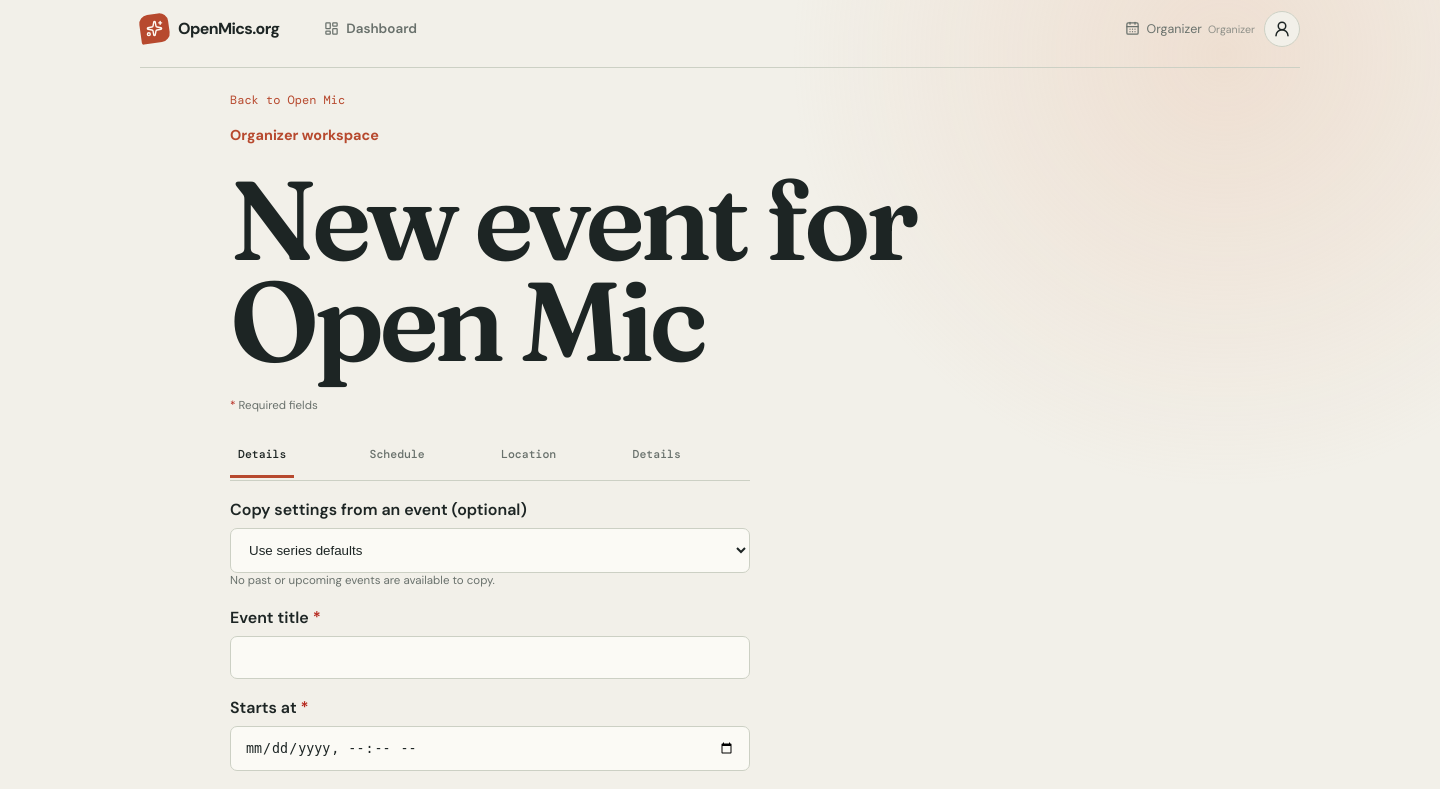
Test: event copy creation › defaults to a three-hour duration and keeps the current duration when start changes
This screenshot has width=1440, height=789.
expect the text "No past or upcoming events are available to copy." is shown: met, box [230, 572, 495, 588]
Type "2026-10-10T18:00" into the field labelled "Starts at *" at (490, 748), box [230, 726, 750, 771]
(page scrolled)
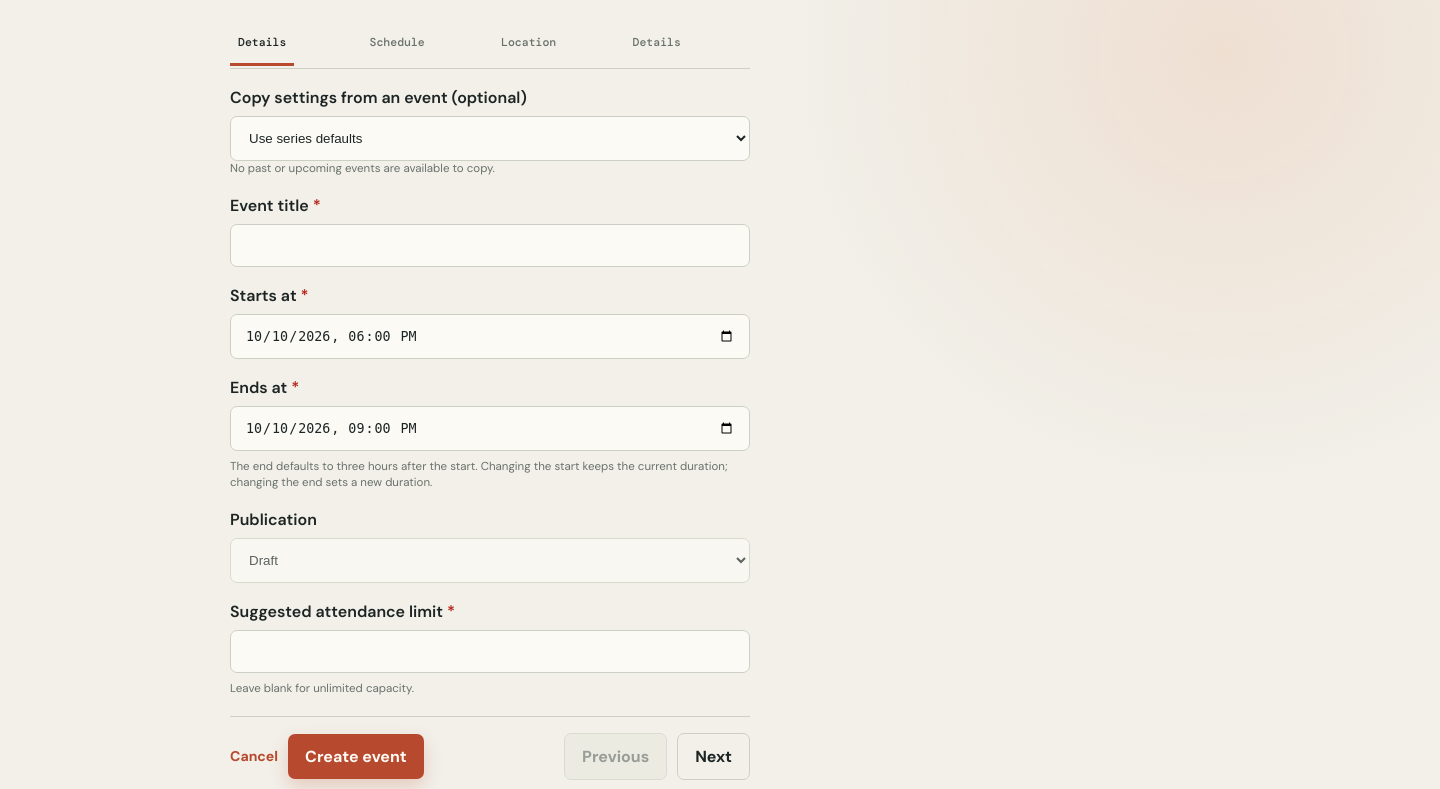
expect the field labelled "Ends at *" holds "2026-10-10T21:00": met
Replace the text in the field labelled "Ends at *" with "2026-10-10T22:30" at (490, 429), box [230, 406, 750, 451]
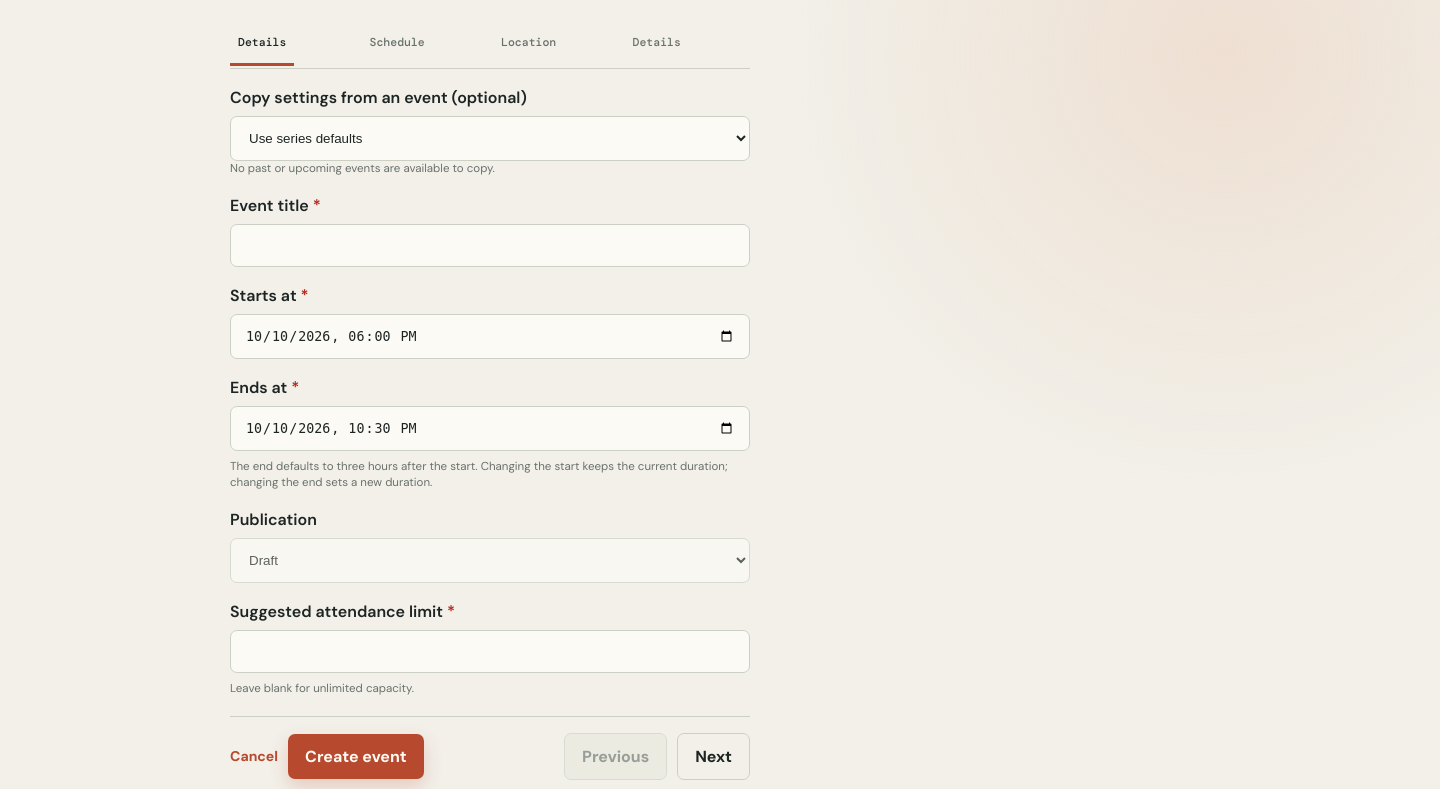
Replace the text in the field labelled "Starts at *" with "2026-10-10T19:00" at (490, 336), box [230, 314, 750, 359]
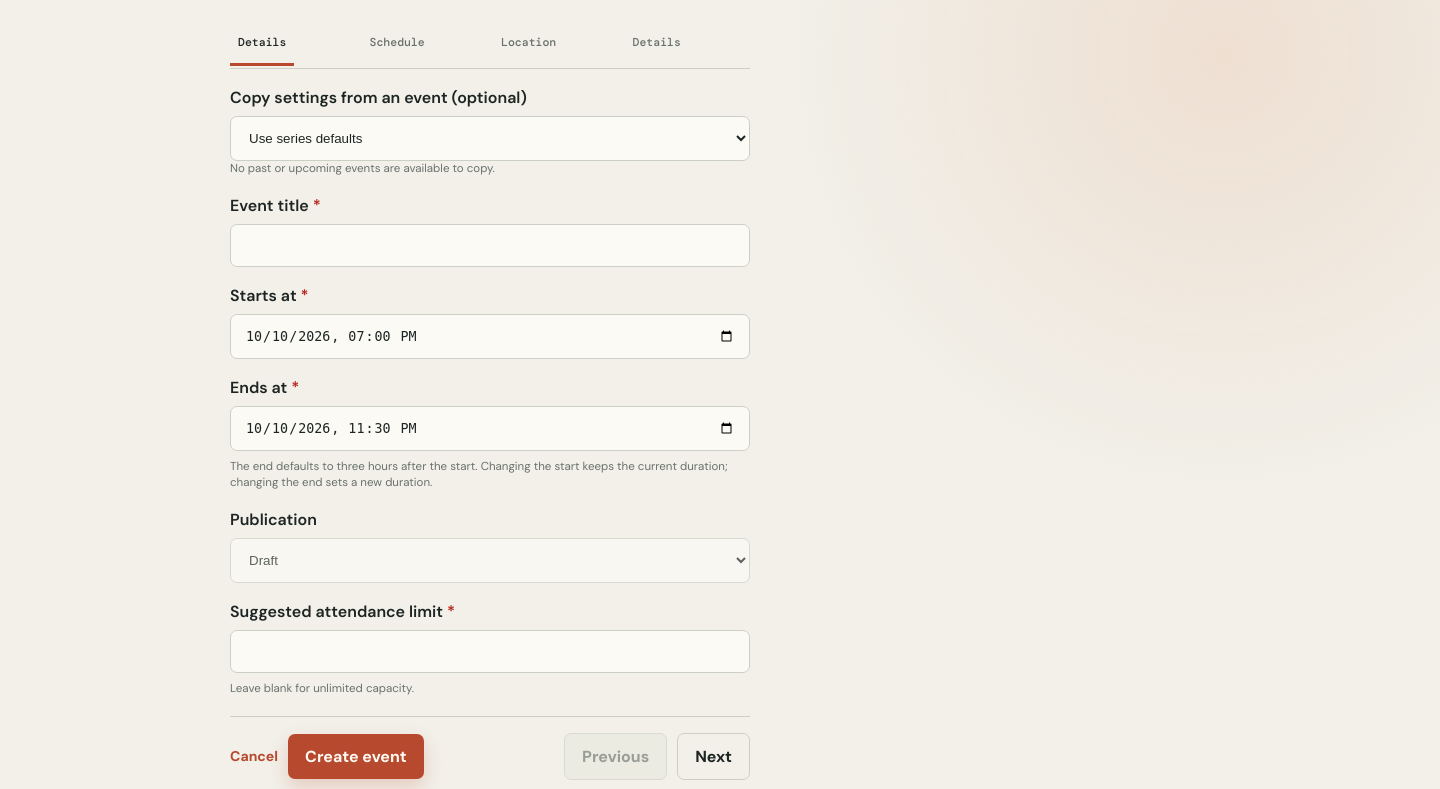
expect the dropdown labelled "Publication" shows "Draft": met, box [230, 538, 750, 584]
expect the field labelled "Ends at *" holds "2026-10-10T23:30": met, box [230, 406, 750, 451]
